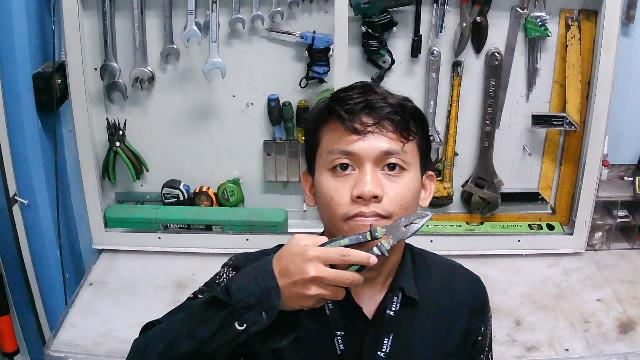tang_kombinasi: (317, 211, 434, 278)
